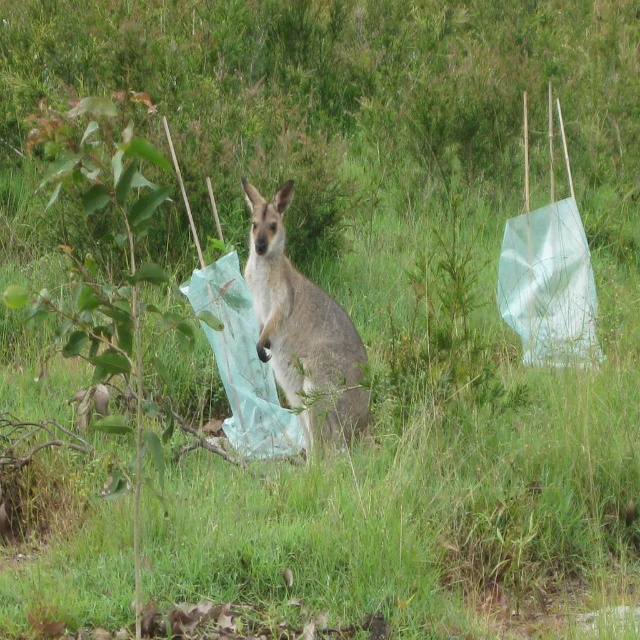Kangaroo: (242, 178, 384, 473)
